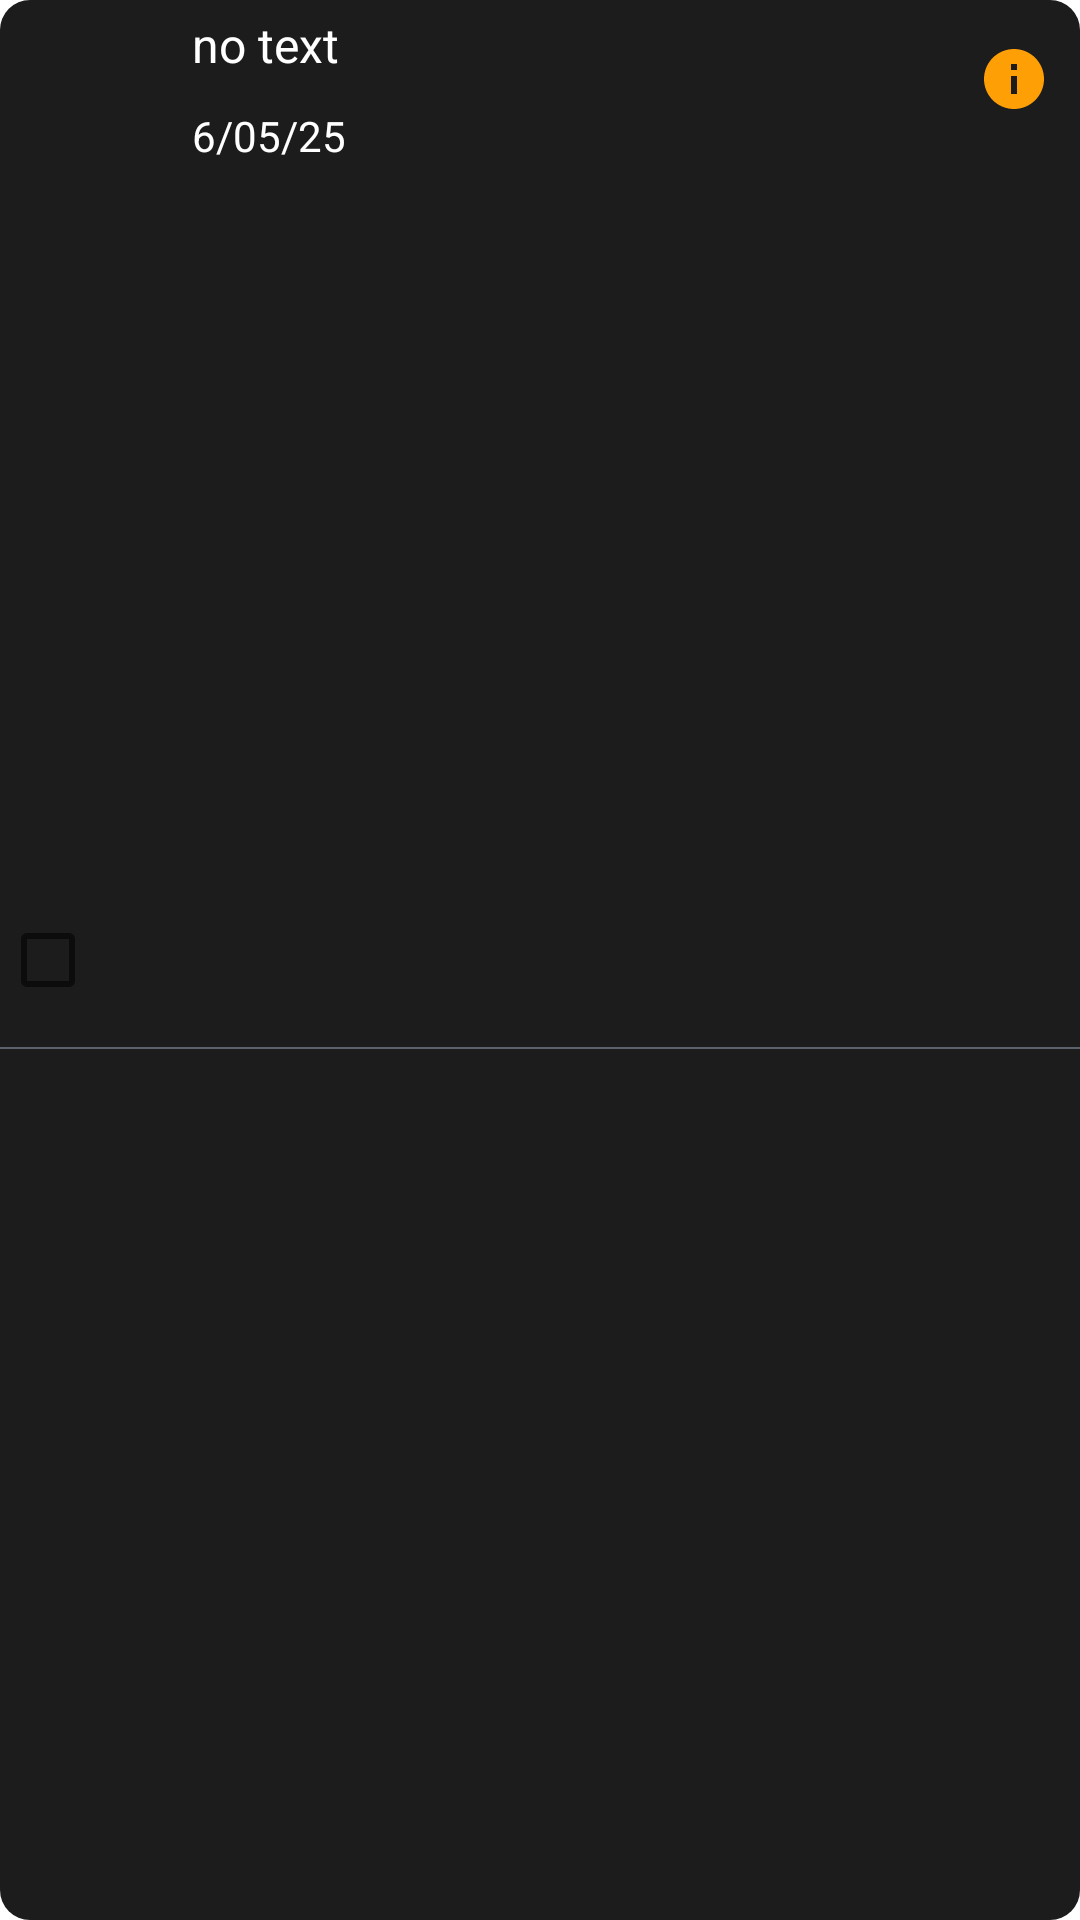

Named icons in this screenshot (1080w x 1920h) and their bounding boxes, (x1, y1, x2, y2):
info medium: (984, 49, 1044, 109)
